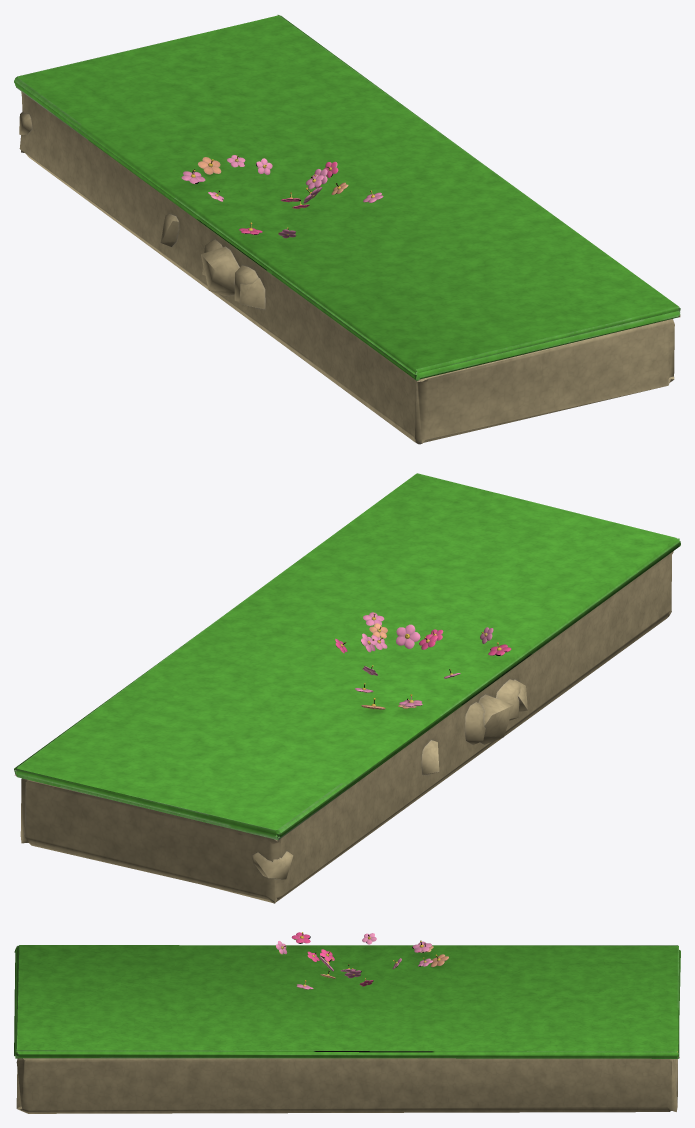
The model's file is tf_island_bank.glb.
3 renders of one model, top to bottom at view 1: azimuth 30°, elevation 25°; view 2: azimuth 150°, elevation 25°; view 3: azimuth 270°, elevation 25°, orthographic. The views are drawn at different scales.
Parts seen in each view (by area): view 1: tf_island_bank; view 2: tf_island_bank; view 3: tf_island_bank.
Part boxes in pixels (x1=…): tf_island_bank: x1=14, y1=15, x2=680, y2=444; tf_island_bank: x1=14, y1=473, x2=680, y2=903; tf_island_bank: x1=14, y1=932, x2=680, y2=1113.
Bounding box in the file's own units: 9.82 × 3.52 × 24.3.
Materials: 6 (6 with a texture image).
